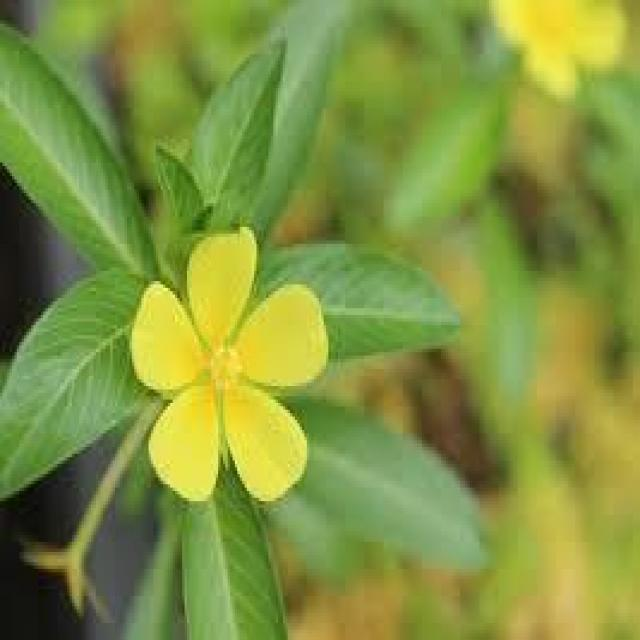organic waste: (128, 227, 320, 494)
